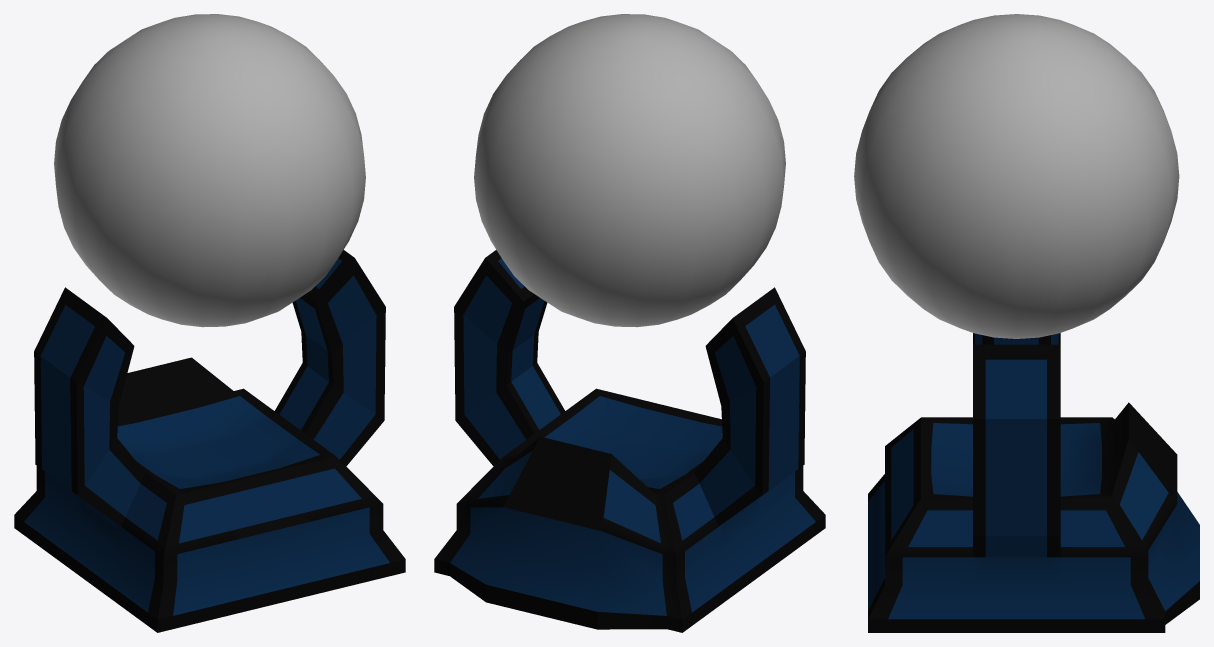
The model's file is Inhibitor1.fbx.
3 renders of one model, left to right at view 1: azimuth 30°, elevation 25°; view 2: azimuth 150°, elevation 25°; view 3: azimuth 270°, elevation 25°, orthographic. The views are drawn at different scales.
Parts seen in each view (by area): view 1: pCube1, pSphere1; view 2: pCube1, pSphere1; view 3: pSphere1, pCube1.
Boxes of the visible parts, x1,y1,x2,y2 form: pCube1: (14,250,405,632); pSphere1: (54,14,365,327); pCube1: (434,250,825,632); pSphere1: (474,14,785,327); pSphere1: (854,14,1179,338); pCube1: (868,333,1199,632).
Bounding box in the file's own units: 1.41 × 2.27 × 1.31.
